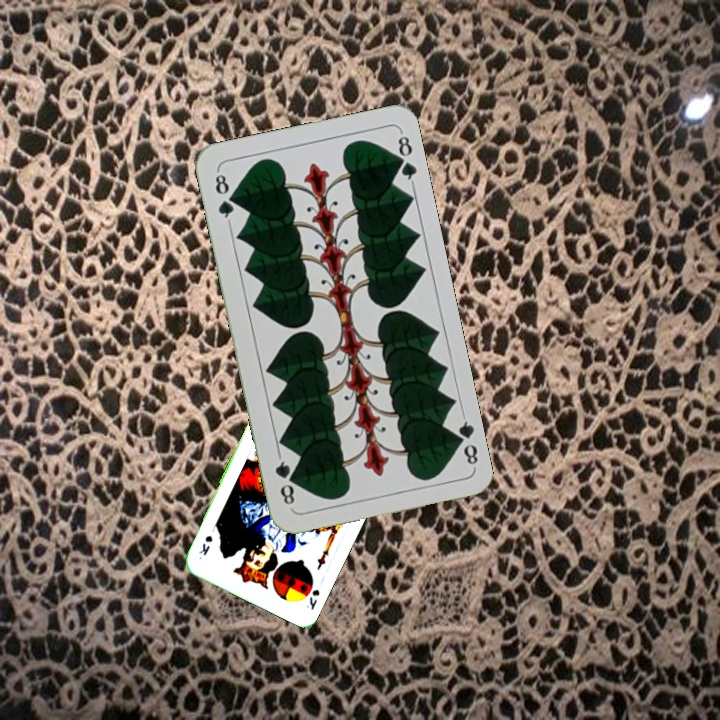G8: (448, 411, 481, 467), (211, 167, 237, 226)
SK: (302, 585, 322, 613)
